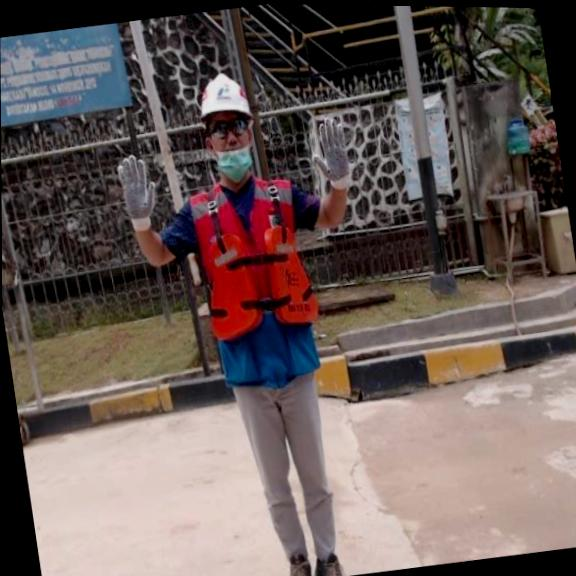safety_vest: (196, 221, 322, 343)
